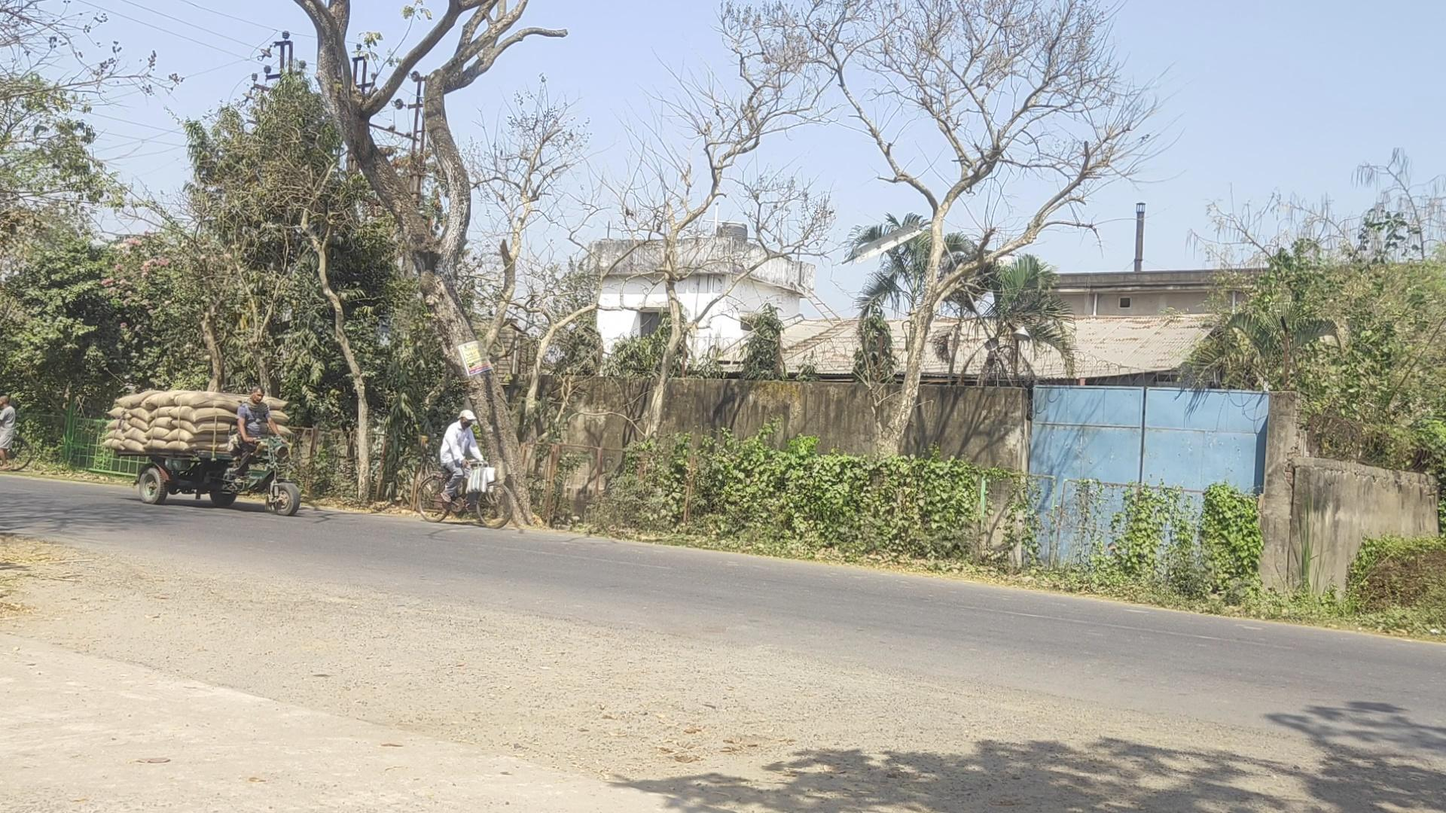bike: (417, 410, 514, 528)
